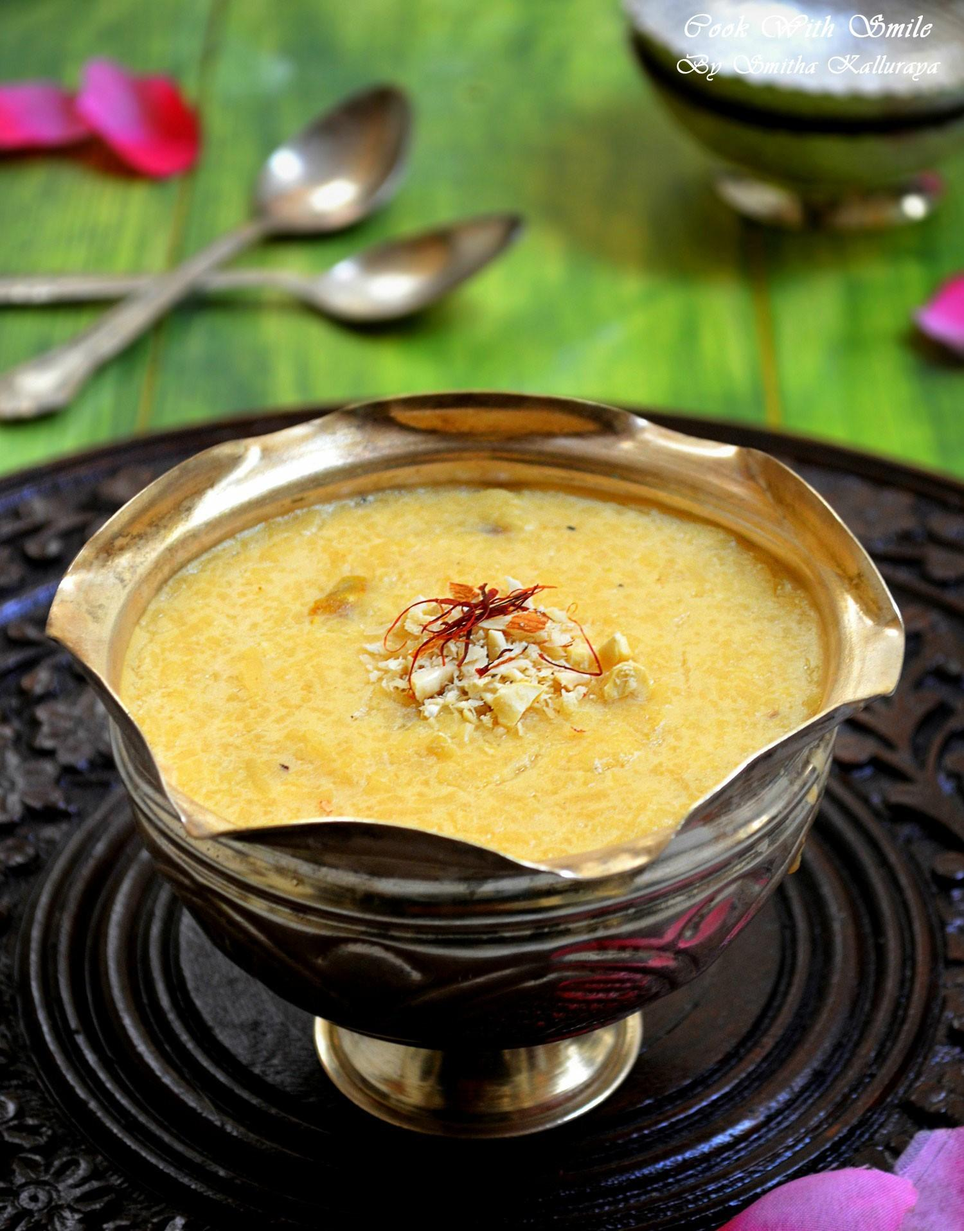Kheer: (121, 487, 824, 860)
